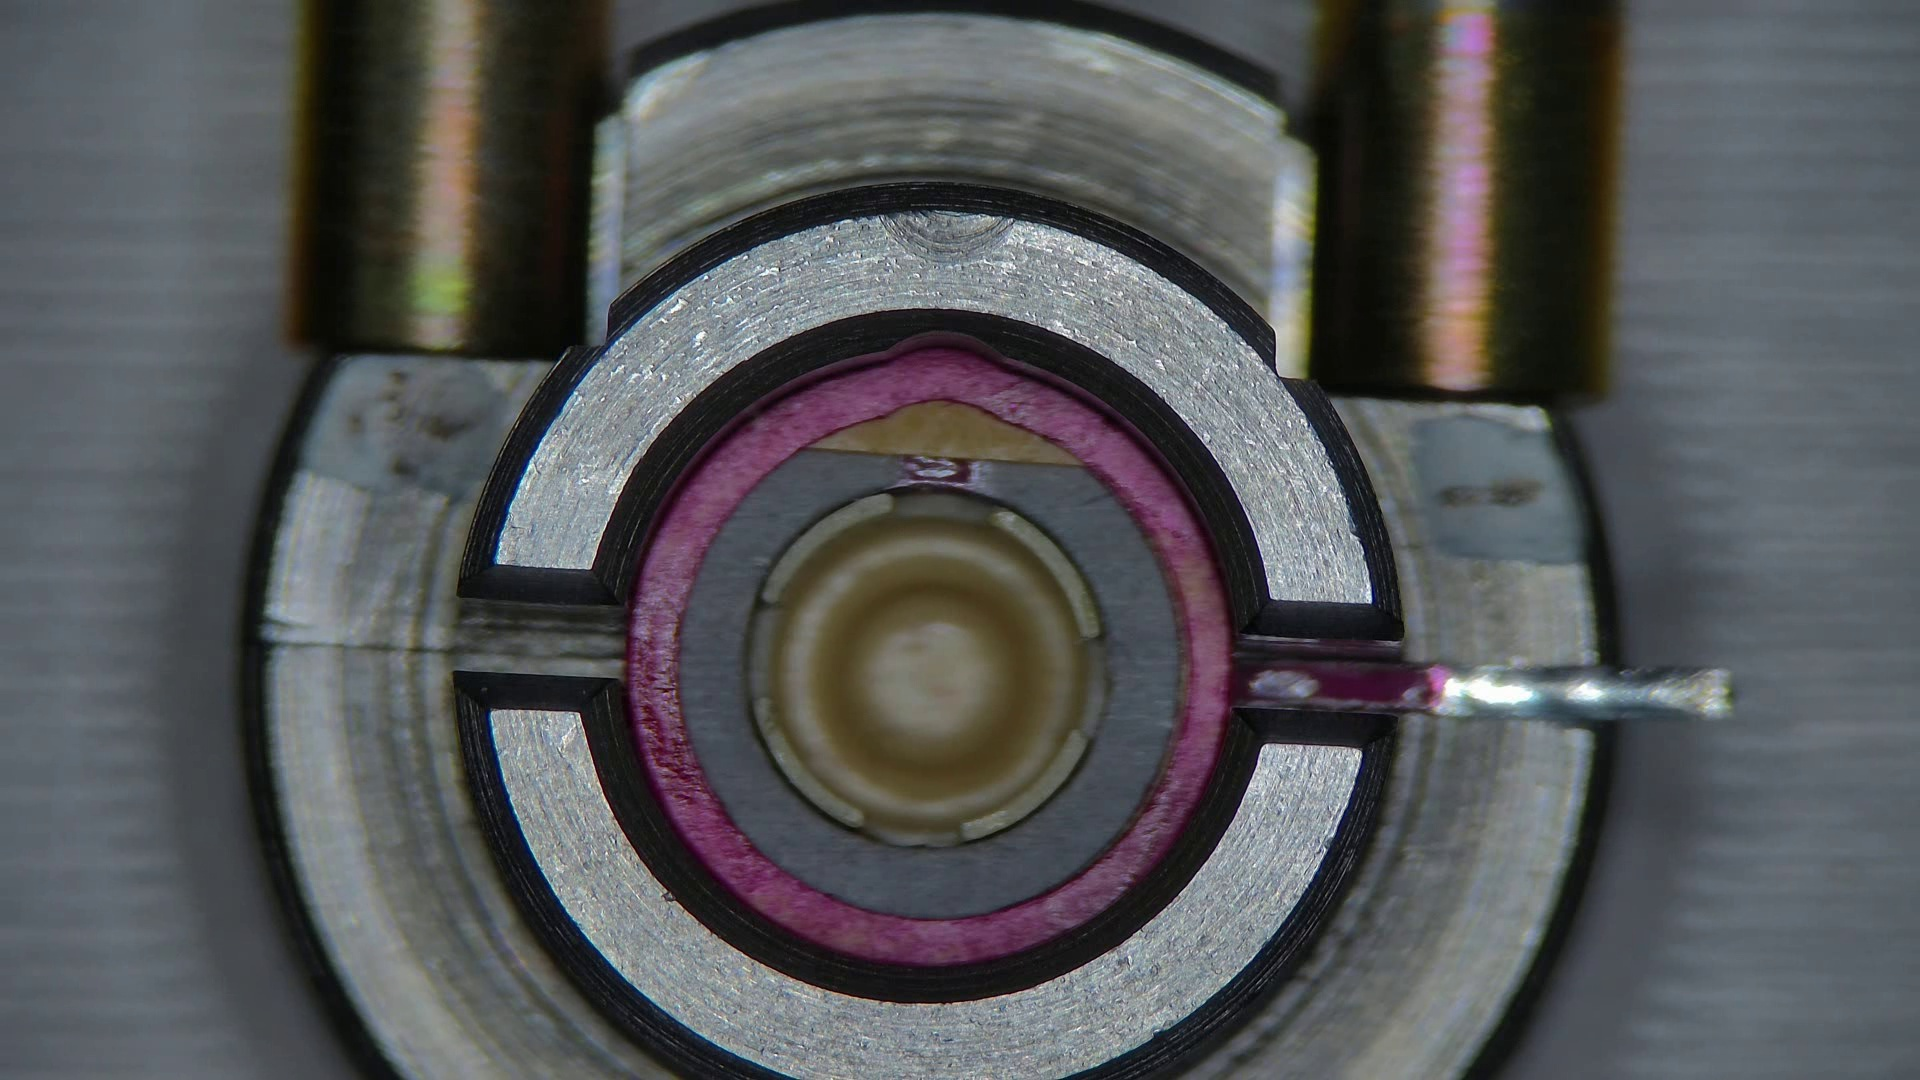GreyOring: (628, 347, 1234, 965)
YellowOring: (680, 458, 1182, 915)
redOring: (808, 404, 1079, 464)
